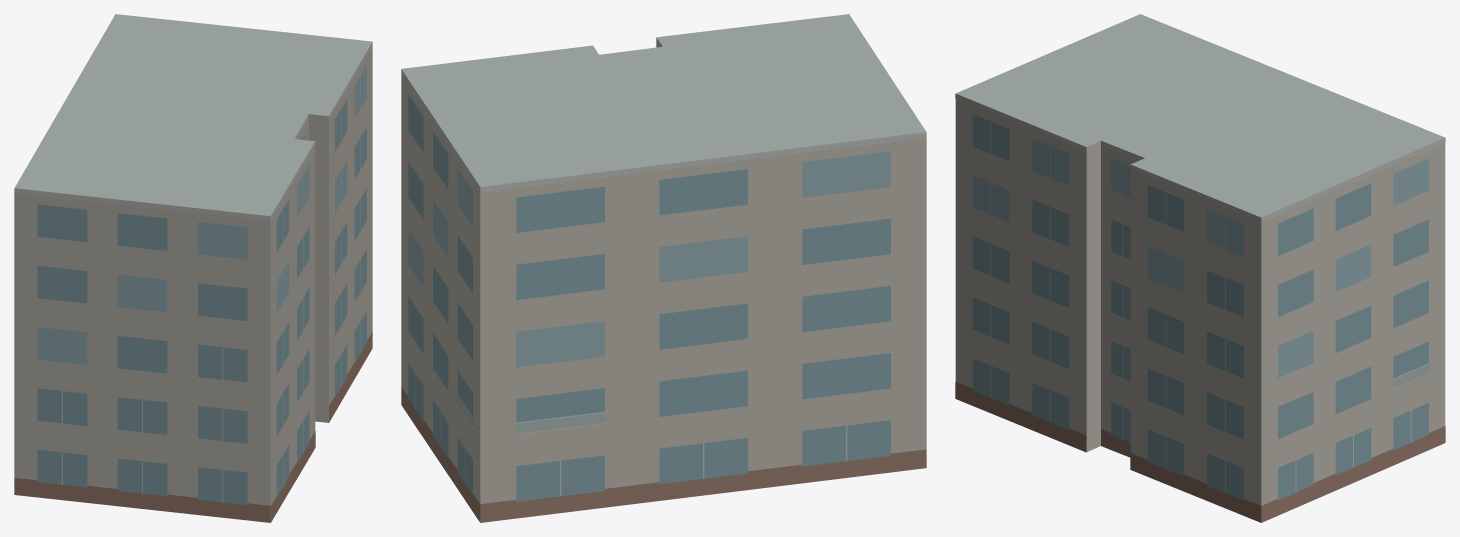
File: survey-upis-32889543.glb
The picture shows the model from 3 angles, left to right: view 1: azimuth 30°, elevation 25°; view 2: azimuth 150°, elevation 25°; view 3: azimuth 270°, elevation 25°; orthographic projection. The views are drawn at different scales.
Visible parts, largest first — view 1: survey-upis-32889543.tmp; view 2: survey-upis-32889543.tmp; view 3: survey-upis-32889543.tmp.
Part boxes in pixels (bbox=[...]): survey-upis-32889543.tmp: bbox=[14, 14, 372, 522]; survey-upis-32889543.tmp: bbox=[401, 14, 926, 522]; survey-upis-32889543.tmp: bbox=[955, 14, 1445, 522].
Size of the model in its own units: 20.81 by 14.55 by 21.16.
